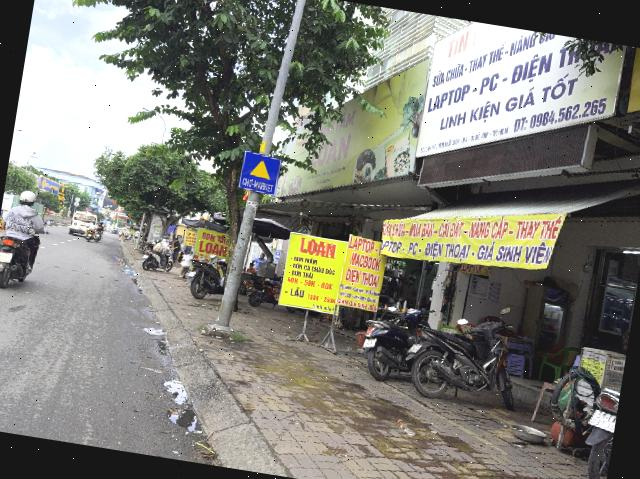khu-vuc-cho-phia-truoc: (238, 150, 281, 196)
